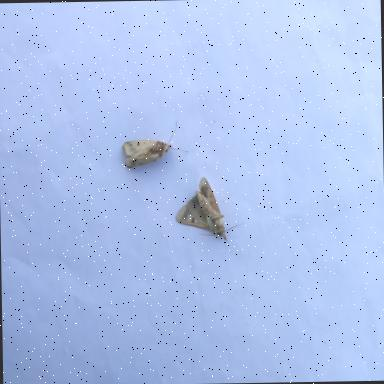abw: (174, 173, 247, 246), (118, 118, 190, 172)
